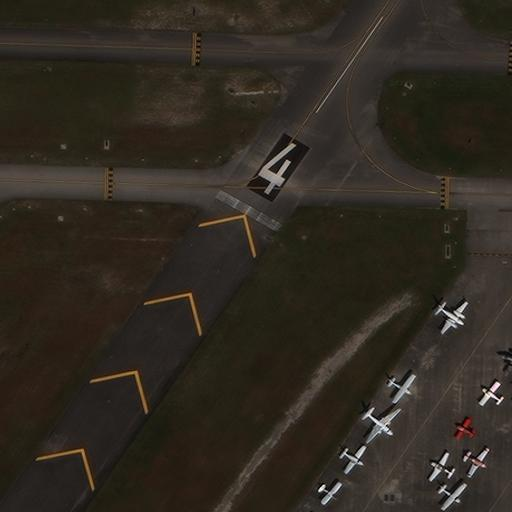Medium Civil Transport: (366, 409, 401, 444)
Small Civil Transport: (437, 303, 468, 334), (388, 376, 416, 404), (439, 485, 468, 511), (427, 451, 453, 479), (464, 450, 490, 478), (341, 447, 367, 474), (477, 380, 501, 402), (320, 485, 342, 505), (499, 345, 511, 374), (454, 418, 473, 436)
